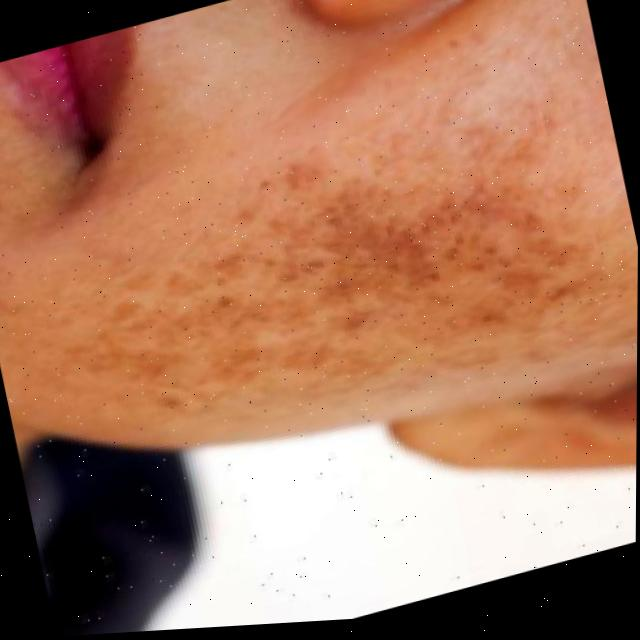Melasma: (147, 128, 536, 425)
